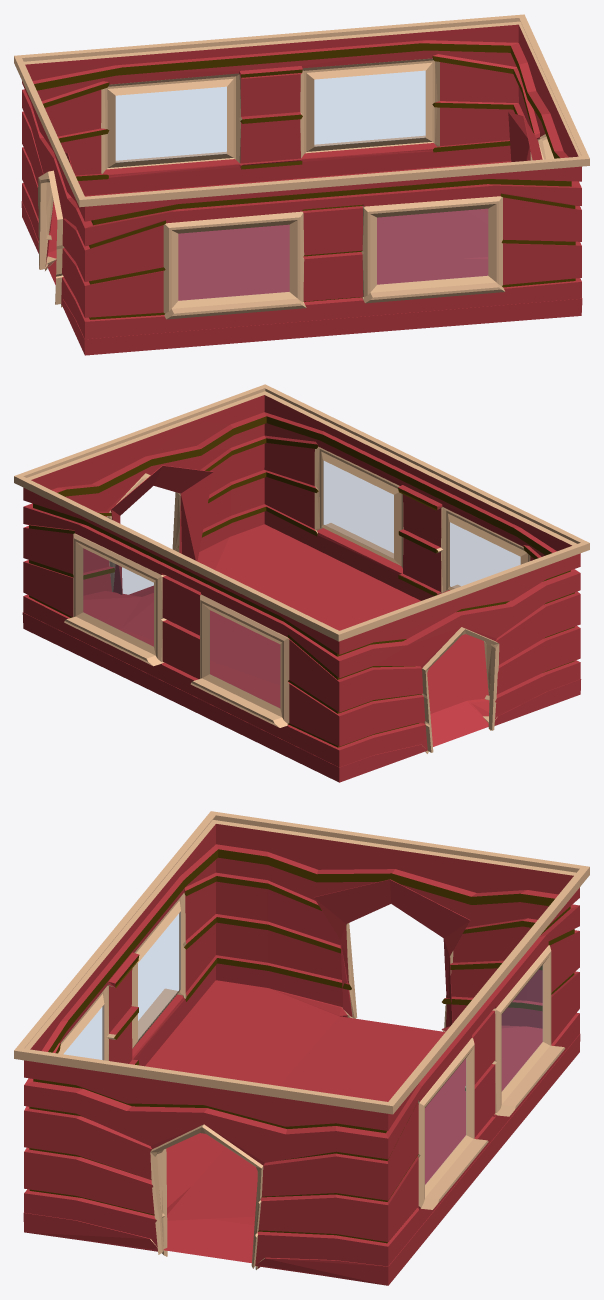
File: House 1 Bot.fbx
3 views of the same model, one above another, from view 1: azimuth 30°, elevation 25°; view 2: azimuth 150°, elevation 25°; view 3: azimuth 270°, elevation 25° (orthographic). The views are drawn at different scales.
Parts seen in each view (by area): view 1: House 1 Bot; view 2: House 1 Bot; view 3: House 1 Bot.
Part boxes in pixels (x1,y1,x2,y2): House 1 Bot: (14, 14, 589, 355); House 1 Bot: (14, 384, 589, 782); House 1 Bot: (14, 811, 589, 1285).
Bounding box in the file's own units: 1025 × 312 × 846.
